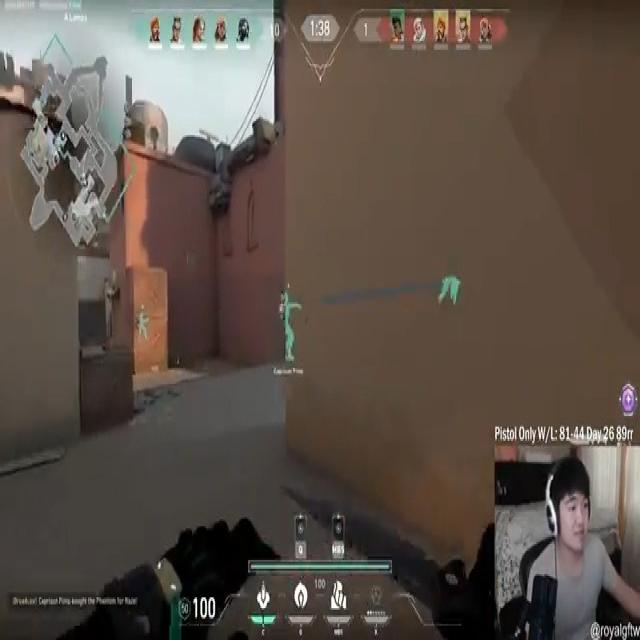ally behind wall: (281, 293, 300, 367), (138, 306, 148, 342)
